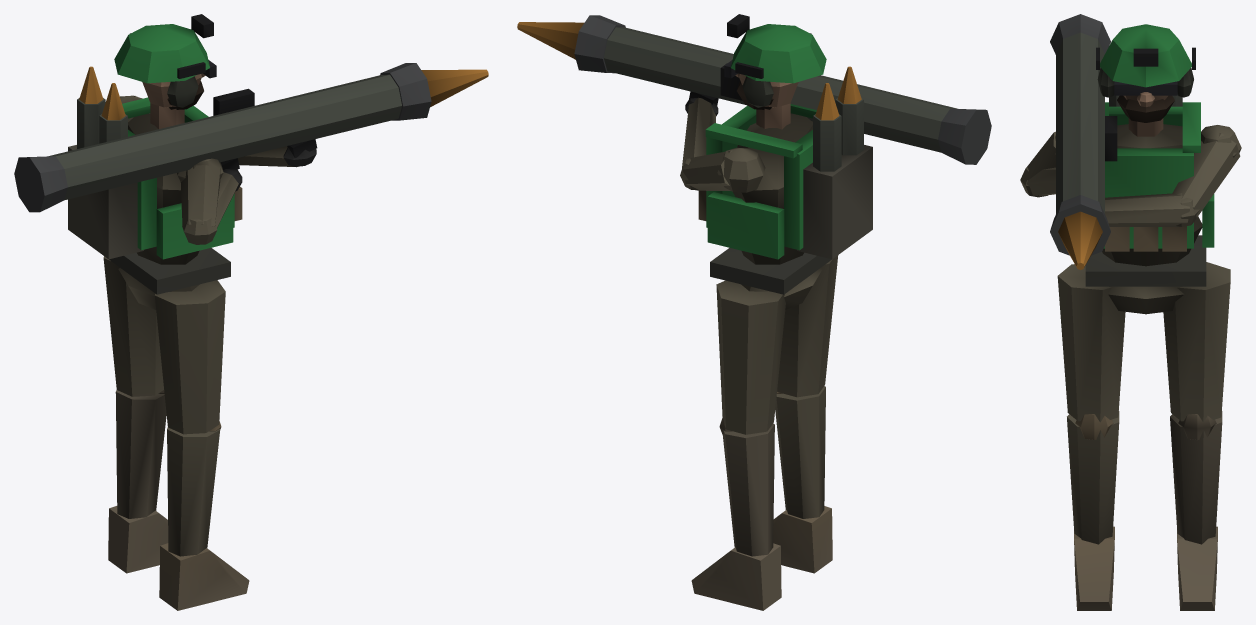
Rendered from u_rocketeer_lod1.glb.
3 renders of one model, left to right at view 1: azimuth 30°, elevation 25°; view 2: azimuth 150°, elevation 25°; view 3: azimuth 270°, elevation 25°, orthographic.
Parts seen in each view (by area): view 1: Rocketeer_LOD1_Walls, Rocketeer_LOD1_shL, Rocketeer_LOD1_thL, Rocketeer_LOD1_shR, Rocketeer_LOD1_Details, Rocketeer_LOD1_thR; view 2: Rocketeer_LOD1_Walls, Rocketeer_LOD1_shR, Rocketeer_LOD1_thR, Rocketeer_LOD1_shL, Rocketeer_LOD1_Details, Rocketeer_LOD1_thL; view 3: Rocketeer_LOD1_Walls, Rocketeer_LOD1_shL, Rocketeer_LOD1_shR, Rocketeer_LOD1_thL, Rocketeer_LOD1_thR, Rocketeer_LOD1_Details.
Boxes of the visible parts, x1,y1,x2,y2 form: Rocketeer_LOD1_Walls: [14, 14, 488, 309]; Rocketeer_LOD1_shL: [159, 421, 249, 610]; Rocketeer_LOD1_thL: [154, 280, 225, 434]; Rocketeer_LOD1_shR: [108, 390, 168, 573]; Rocketeer_LOD1_Details: [77, 33, 230, 294]; Rocketeer_LOD1_thR: [103, 256, 163, 396]; Rocketeer_LOD1_Walls: [517, 14, 991, 309]; Rocketeer_LOD1_shR: [691, 416, 781, 610]; Rocketeer_LOD1_thR: [716, 280, 785, 434]; Rocketeer_LOD1_shL: [773, 386, 832, 573]; Rocketeer_LOD1_Details: [710, 33, 863, 294]; Rocketeer_LOD1_thL: [777, 255, 838, 397]; Rocketeer_LOD1_Walls: [1020, 14, 1241, 314]; Rocketeer_LOD1_shL: [1067, 411, 1119, 610]; Rocketeer_LOD1_shR: [1170, 411, 1222, 610]; Rocketeer_LOD1_thL: [1057, 264, 1125, 422]; Rocketeer_LOD1_thR: [1163, 262, 1230, 422]; Rocketeer_LOD1_Details: [1085, 47, 1206, 286].
Bounding box in the file's own units: 0.52 × 0.6016 × 0.2167.
